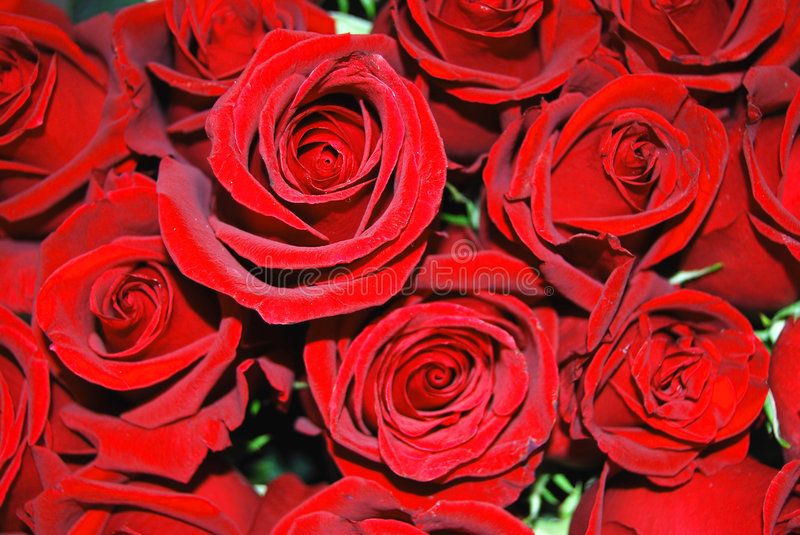RedRose: (177, 35, 447, 308), (49, 192, 257, 458), (484, 60, 725, 275), (345, 270, 552, 492), (590, 293, 760, 478), (1, 0, 123, 206), (388, 5, 603, 104), (34, 443, 255, 535), (142, 4, 345, 91), (604, 0, 792, 82), (260, 482, 540, 535), (744, 97, 800, 240)
